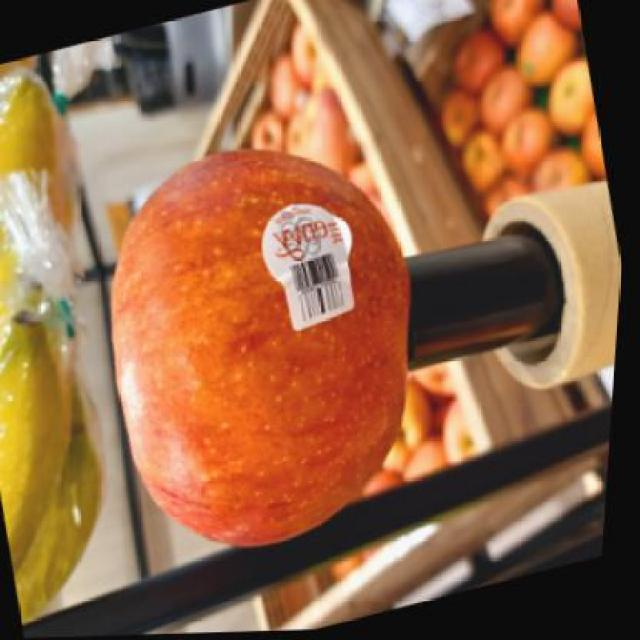Fresh Apple: (109, 154, 412, 564)
